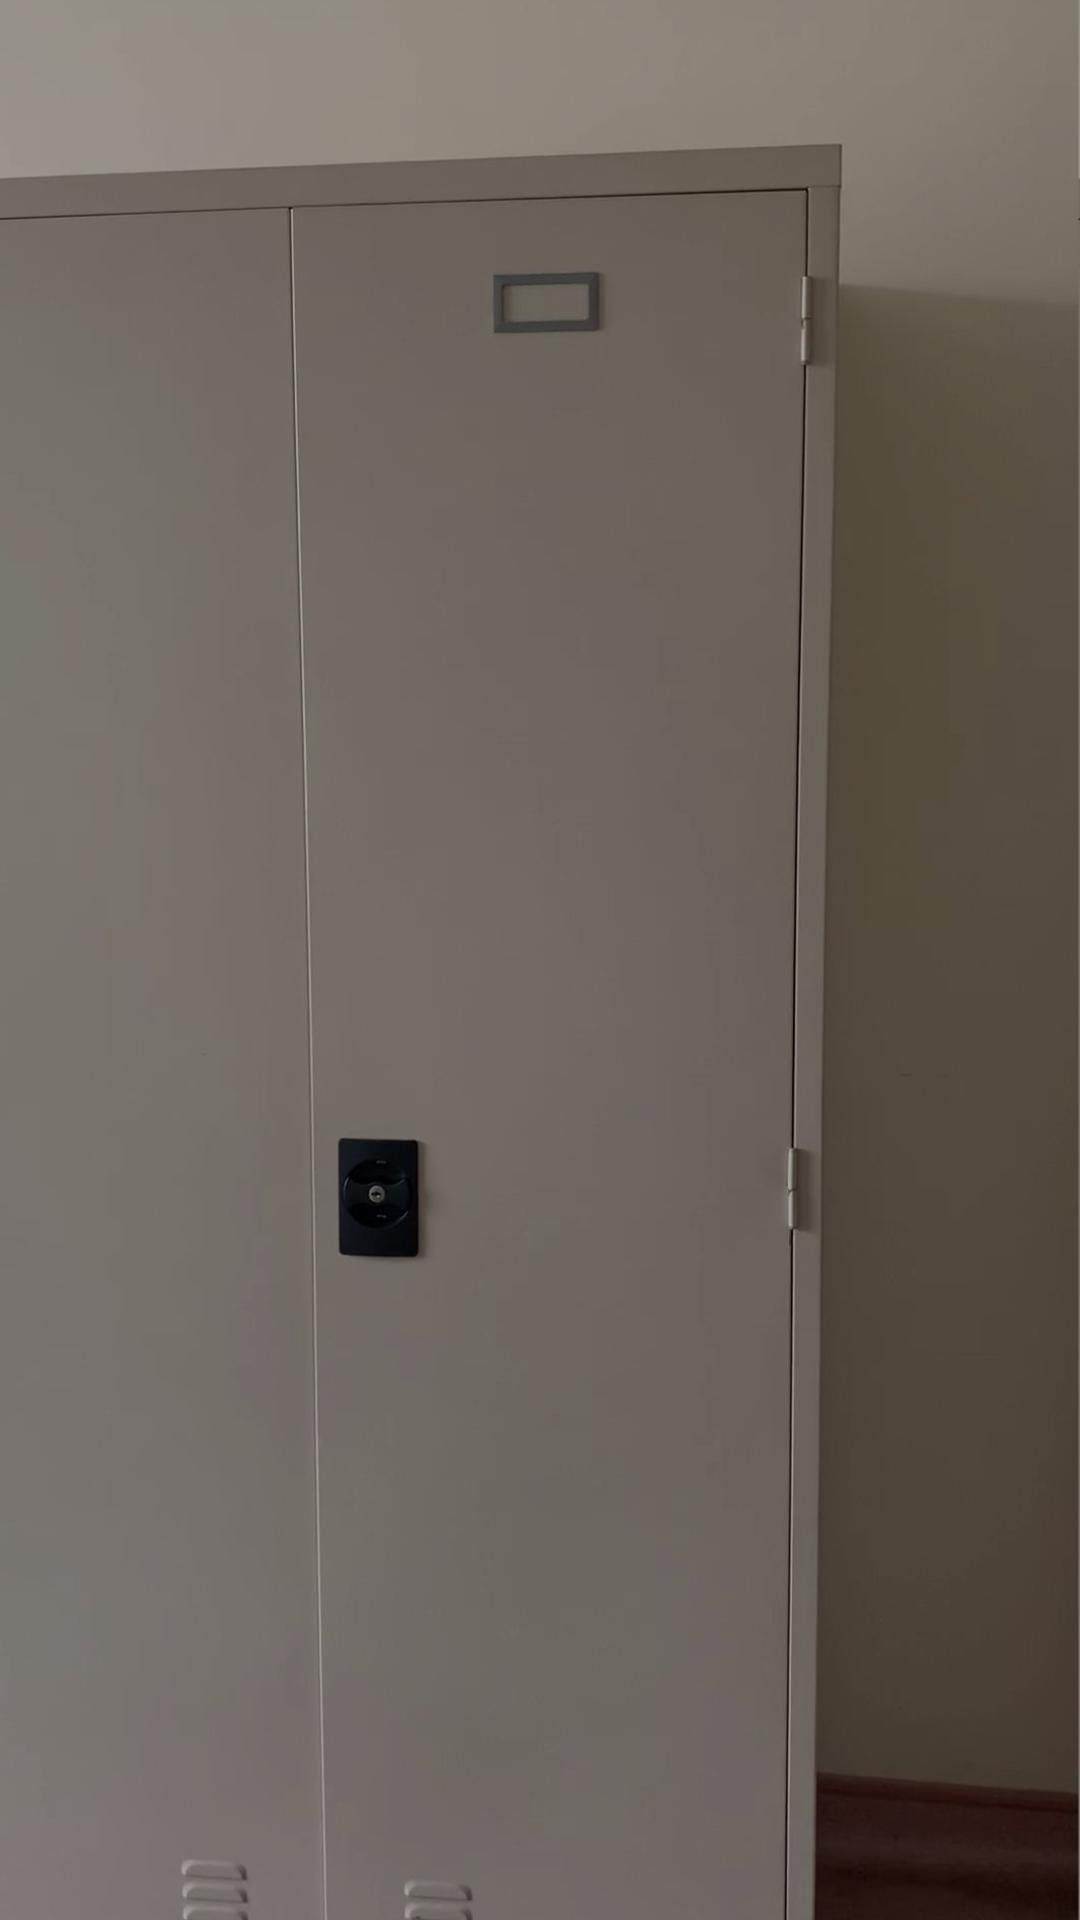Armario: (0, 103, 832, 1920)
